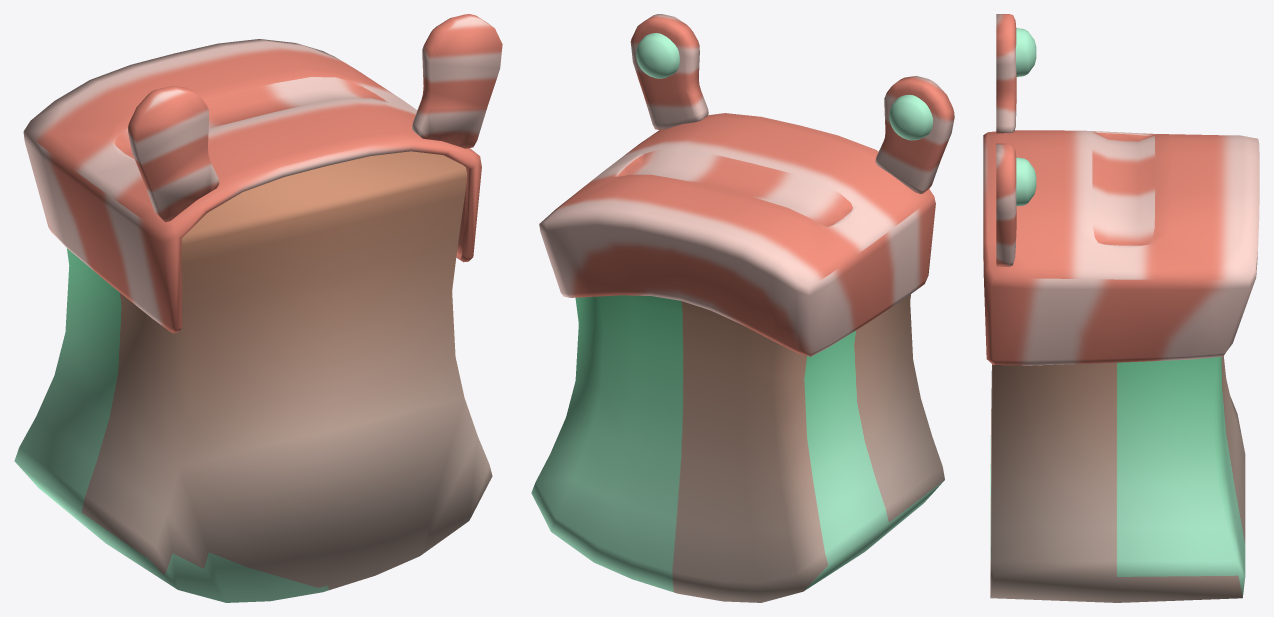
Rendered from MailboxC_yellow.fbx.
3 renders of one model, left to right at view 1: azimuth 30°, elevation 25°; view 2: azimuth 150°, elevation 25°; view 3: azimuth 270°, elevation 25°, orthographic. The views are drawn at different scales.
Visible parts, largest first — view 1: MailboxC_base.003, MailboxC_lid.003; view 2: MailboxC_base.003, MailboxC_lid.003, MailboxC_buttons.003; view 3: MailboxC_lid.003, MailboxC_base.003, MailboxC_buttons.003.
Part boxes in pixels (x1,y1,x2,y2): MailboxC_base.003: (14,151,492,602); MailboxC_lid.003: (23,14,502,333); MailboxC_base.003: (531,294,944,602); MailboxC_lid.003: (539,14,954,356); MailboxC_buttons.003: (636,33,933,140); MailboxC_lid.003: (983,14,1259,365); MailboxC_base.003: (990,356,1245,602); MailboxC_buttons.003: (1016,28,1036,206).
Size of the model in its own units: 114 by 160 by 82.11.
